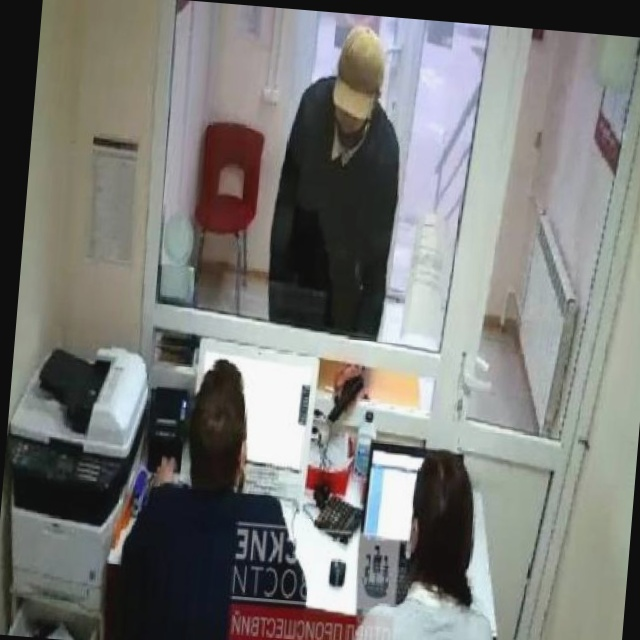gun: (322, 369, 371, 431)
